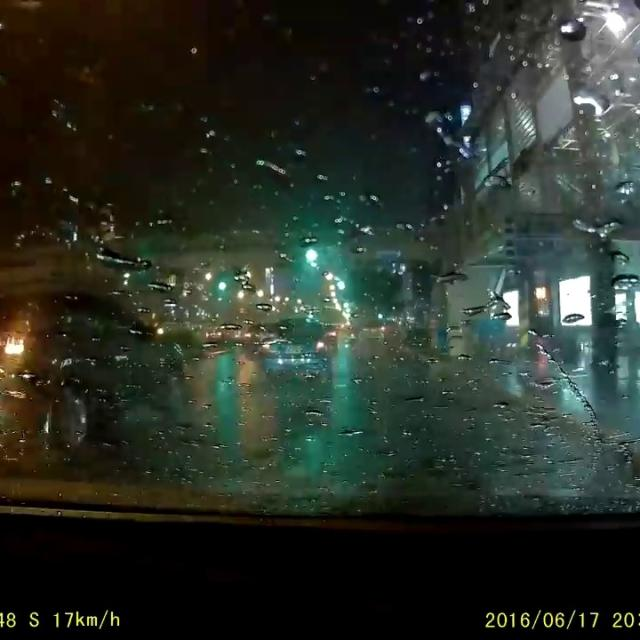Car: (0, 284, 186, 457), (253, 319, 332, 385), (355, 315, 386, 341)
